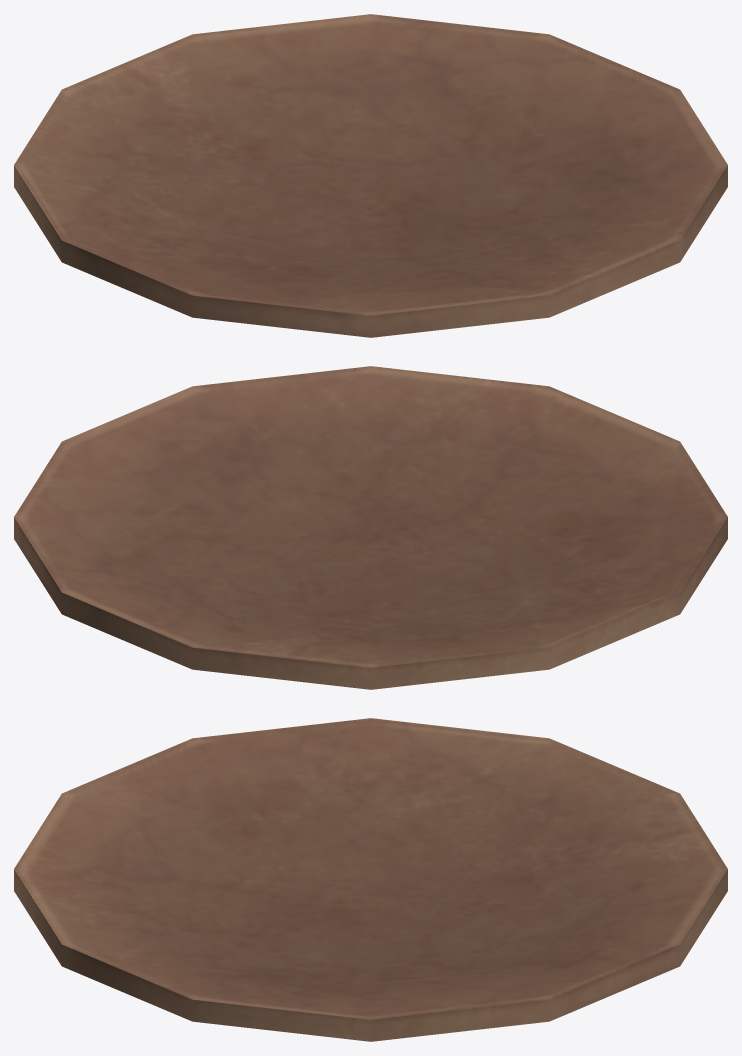
The picture shows the model from 3 angles, top to bottom: view 1: azimuth 30°, elevation 25°; view 2: azimuth 150°, elevation 25°; view 3: azimuth 270°, elevation 25°; orthographic projection.
Parts seen in each view (by area): view 1: submesh_0; view 2: submesh_0; view 3: submesh_0.
Part boxes in pixels (bbox=[...]): submesh_0: bbox=[14, 14, 727, 337]; submesh_0: bbox=[14, 366, 727, 689]; submesh_0: bbox=[14, 718, 727, 1041].
Size of the model in its own units: 0.4924 by 0.0517 by 0.4924.
Materials: 1 (1 with a texture image).
